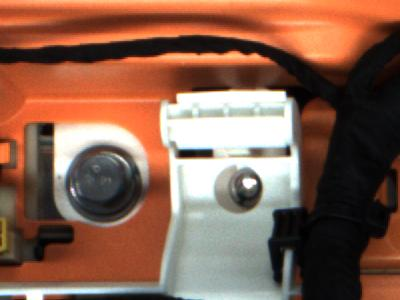nut_b: (58, 141, 145, 225)
